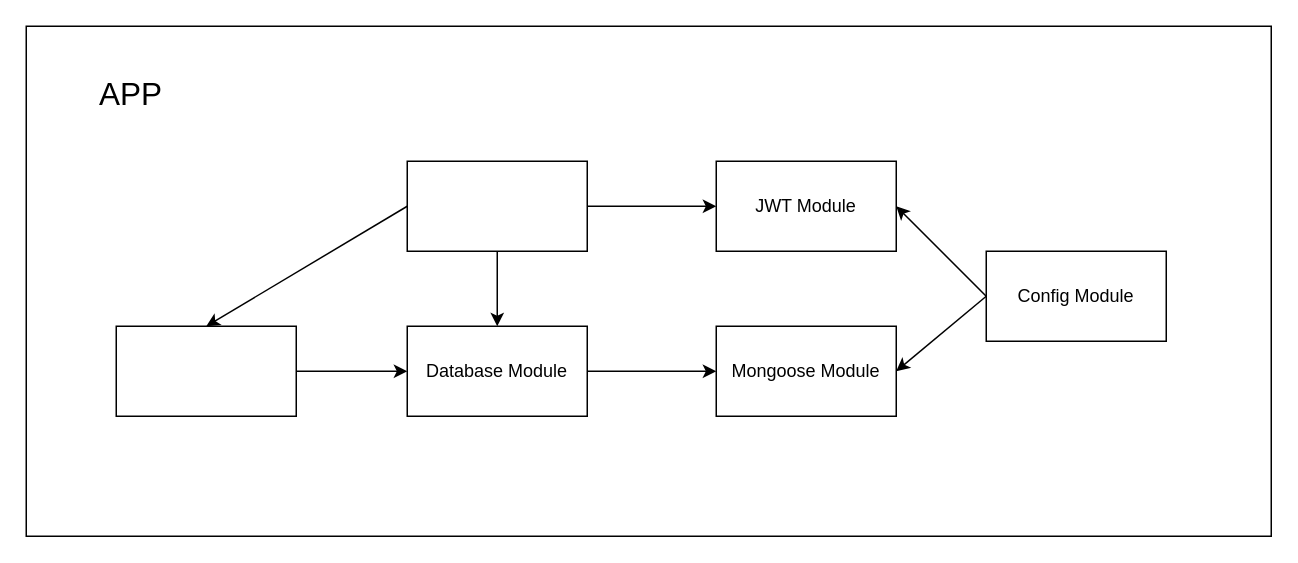
Some shapes in this 1298 by 563 pixel diagram are drawn without their labels. Here are the shapes that lost their labels. From the top down, the centre of each, then its label:
At (x=496, y=205): "Login Module".
At (x=205, y=370): "Business Module".
